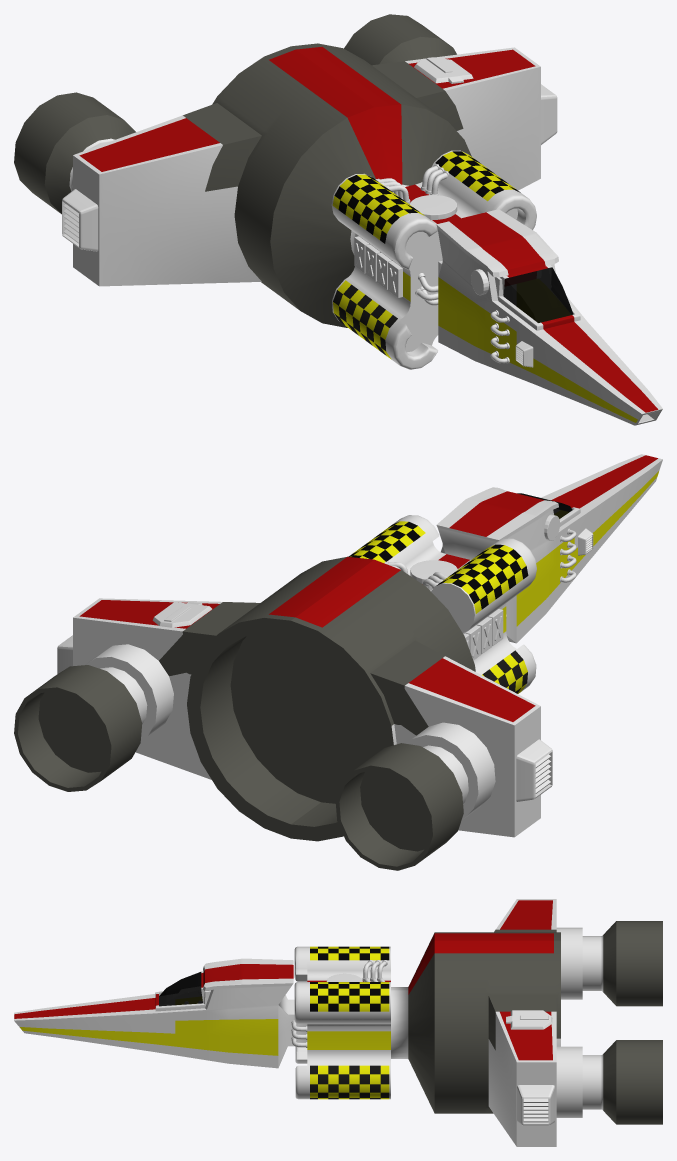
The model's file is mainShip_lowPoly03_Again_FBX.fbx.
3 views of the same model, one above another, from view 1: azimuth 30°, elevation 25°; view 2: azimuth 150°, elevation 25°; view 3: azimuth 270°, elevation 25° (orthographic). The views are drawn at different scales.
Visible parts, largest first — view 1: polySurface52, polySurface44; view 2: polySurface52, polySurface44; view 3: polySurface52, polySurface44.
Part boxes in pixels (x1,y1,x2,y2): polySurface52: [14, 14, 662, 425]; polySurface44: [62, 57, 557, 367]; polySurface52: [14, 454, 662, 870]; polySurface44: [57, 514, 593, 801]; polySurface52: [14, 899, 662, 1146]; polySurface44: [291, 960, 554, 1125].
Size of the model in its own units: 50.01 by 21.79 by 77.73.
